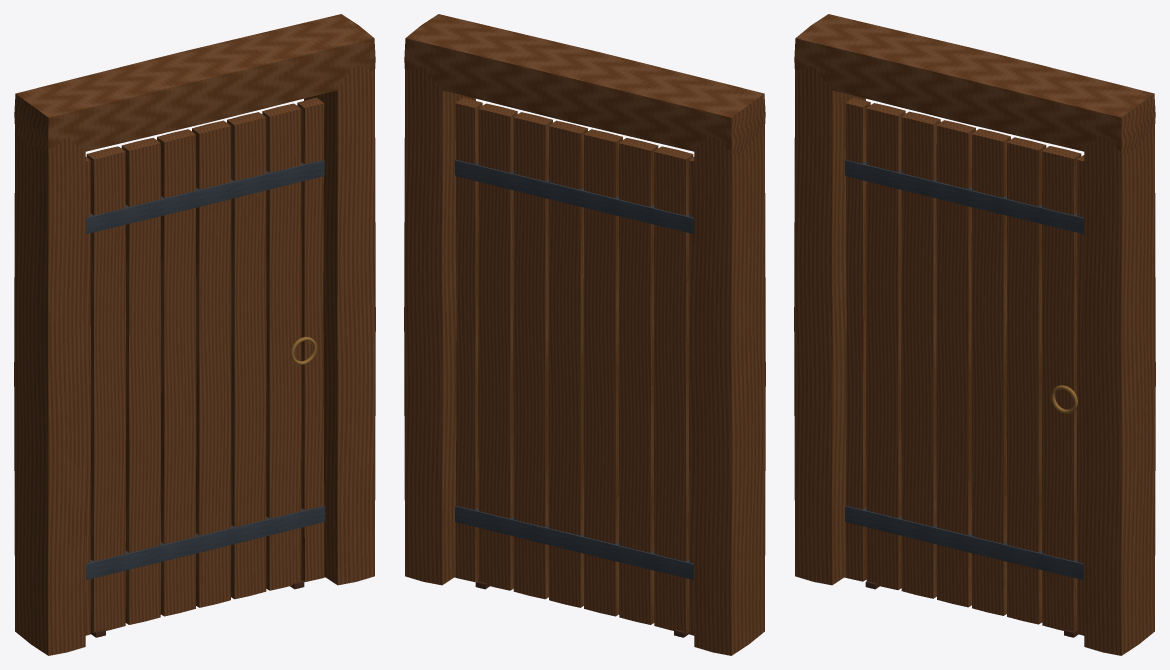
3 views of the same model, side by side, from view 1: azimuth 30°, elevation 25°; view 2: azimuth 150°, elevation 25°; view 3: azimuth 330°, elevation 25° (orthographic).
Parts seen in each view (by area): view 1: wood.0, wood.1, wood.2, wood.8, wood.9, wood.7, wood.4, wood.6, wood.5, wood.10, iron.12, iron.11 (+1 smaller); view 2: wood.0, wood.1, wood.2, wood.8, wood.9, wood.7, wood.4, wood.6, wood.5, wood.10, iron.12, iron.11 (+1 smaller); view 3: wood.1, wood.0, wood.2, wood.5, wood.4, wood.6, wood.7, wood.8, wood.9, wood.3, iron.12, iron.11 (+1 smaller).
Boxes of the visible parts, x1,y1,x2,y2 form: wood.0: (14, 129, 86, 655); wood.1: (304, 65, 375, 585); wood.2: (14, 14, 375, 152); wood.8: (227, 112, 266, 599); wood.9: (262, 103, 301, 590); wood.7: (192, 120, 231, 607); wood.4: (86, 146, 125, 633); wood.6: (157, 129, 196, 616); wood.5: (121, 138, 161, 624); wood.10: (297, 97, 324, 581); iron.12: (86, 160, 324, 233); iron.11: (86, 506, 325, 579); wood.0: (693, 129, 765, 655); wood.1: (404, 66, 475, 585); wood.2: (404, 14, 765, 155); wood.8: (513, 112, 552, 599); wood.9: (478, 103, 517, 590); wood.7: (548, 120, 587, 607); wood.4: (654, 146, 693, 633); wood.6: (583, 129, 622, 616); wood.5: (618, 138, 658, 624); wood.10: (455, 97, 482, 581); iron.12: (455, 160, 693, 233); iron.11: (455, 506, 693, 579); wood.1: (1083, 129, 1155, 655); wood.0: (794, 66, 865, 585); wood.2: (794, 14, 1155, 155); wood.5: (901, 111, 940, 598); wood.4: (866, 103, 905, 589); wood.6: (936, 120, 975, 607); wood.7: (971, 128, 1010, 615); wood.8: (1006, 137, 1046, 624); wood.9: (1042, 146, 1081, 631); wood.3: (844, 97, 870, 581); iron.12: (845, 160, 1083, 233); iron.11: (845, 506, 1083, 579).
Size of the model in its own units: 1.6 by 2.52 by 0.3.
4 materials, 4 textured.
